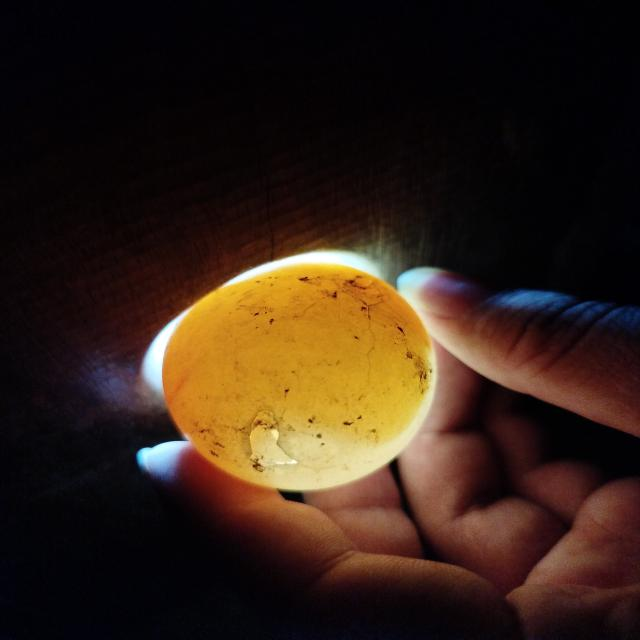Rachadura: (300, 277, 392, 386), (249, 410, 298, 470)
